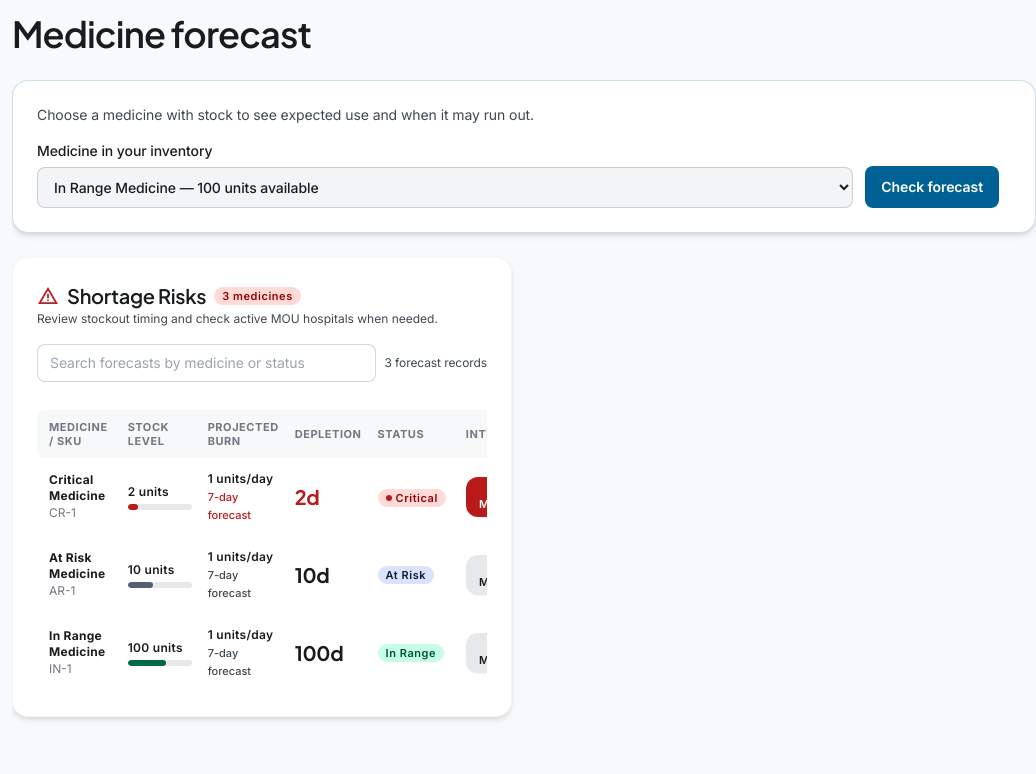
Test case: PulseGrid Control Tower Test Suite › RiskForecastingView › removes the demand chart and sorts shortage rows by severity
The image size is (1036, 774).
Select "In Range Medicine — 100 units available" in the dropdown labelled "Medicine in your inventory": (445,188) [37,167,853,208]
Click the button "Check forecast": (932,187) [865,166,999,208]
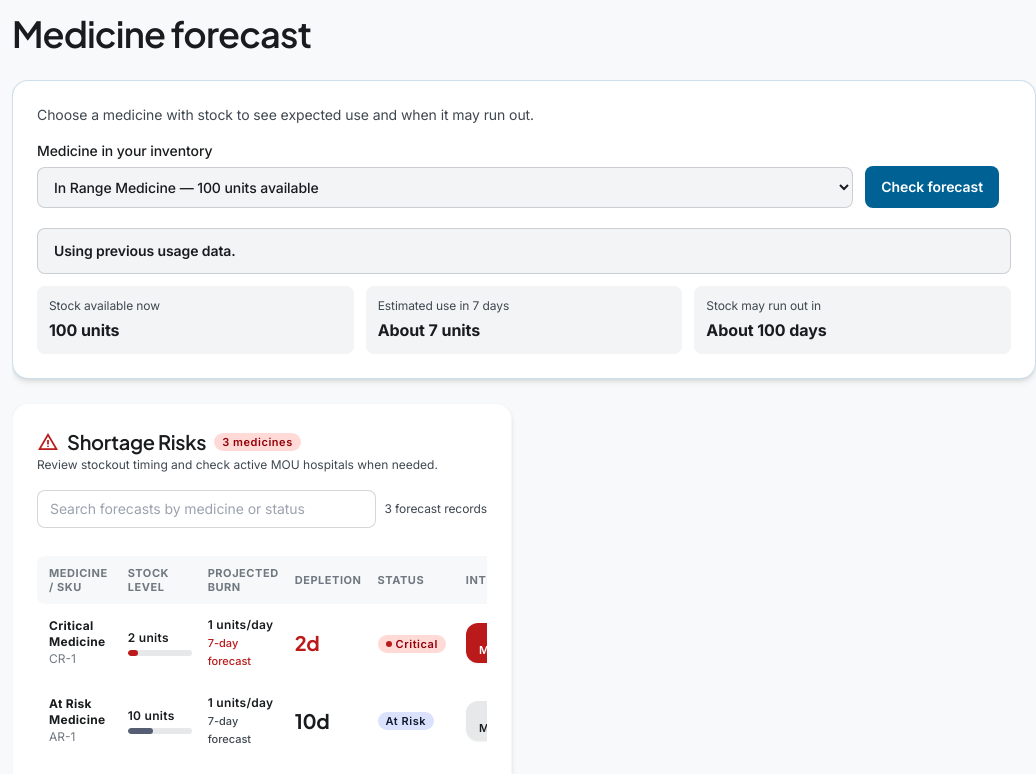
Expected: the message reads "Using previous usage data.", [54,242,236,259]
Expected: the element named "Forecast result" shows "100 units", [37,286,1011,354]
Expected: the element named "Forecast result" shows "About 7 units", [378,320,480,340]
